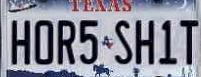0: (34, 18, 57, 65)
1: (160, 19, 180, 67)
5: (77, 18, 101, 65)
H: (9, 17, 33, 66), (135, 19, 158, 66)
R: (58, 19, 80, 66)
S: (112, 18, 134, 66)
T: (179, 16, 201, 67)
